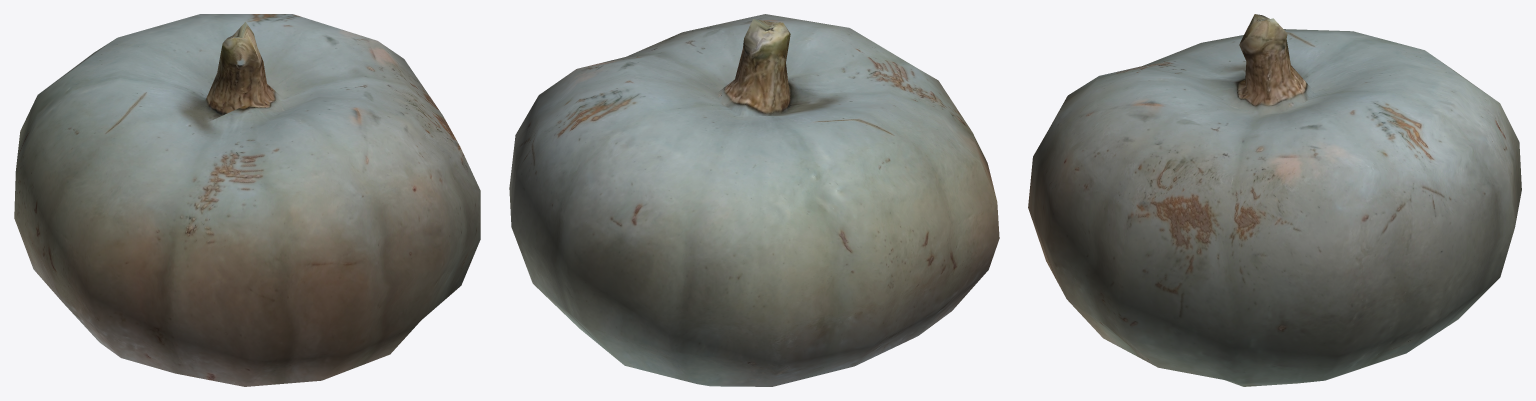
File: A85_Pumpkin_low.fbx
3 renders of one model, left to right at view 1: azimuth 30°, elevation 25°; view 2: azimuth 150°, elevation 25°; view 3: azimuth 270°, elevation 25°, orthographic. The views are drawn at different scales.
Parts seen in each view (by area): view 1: A85_Pumpkin_low; view 2: A85_Pumpkin_low; view 3: A85_Pumpkin_low.
Boxes of the visible parts, x1,y1,x2,y2 form: A85_Pumpkin_low: (14,14,480,386); A85_Pumpkin_low: (509,14,999,386); A85_Pumpkin_low: (1028,14,1521,386).
Size of the model in its own units: 28.11 by 29.6 by 21.72.
Materials: 1 (1 with a texture image).
